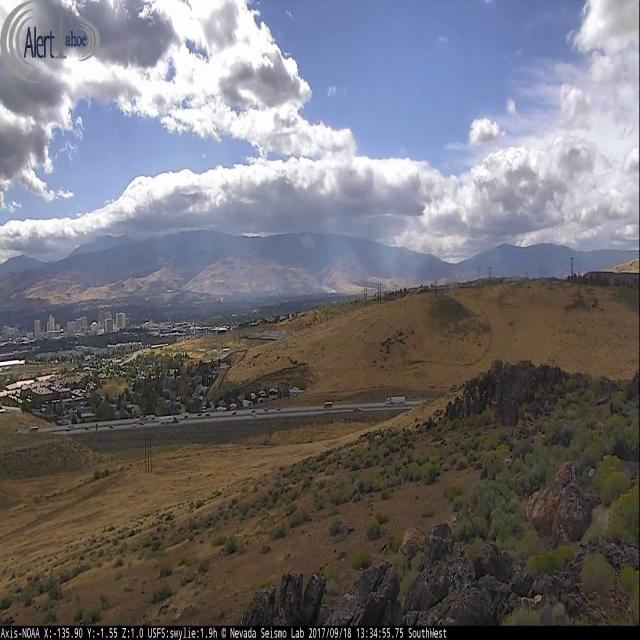smoke: (319, 284, 336, 293)
